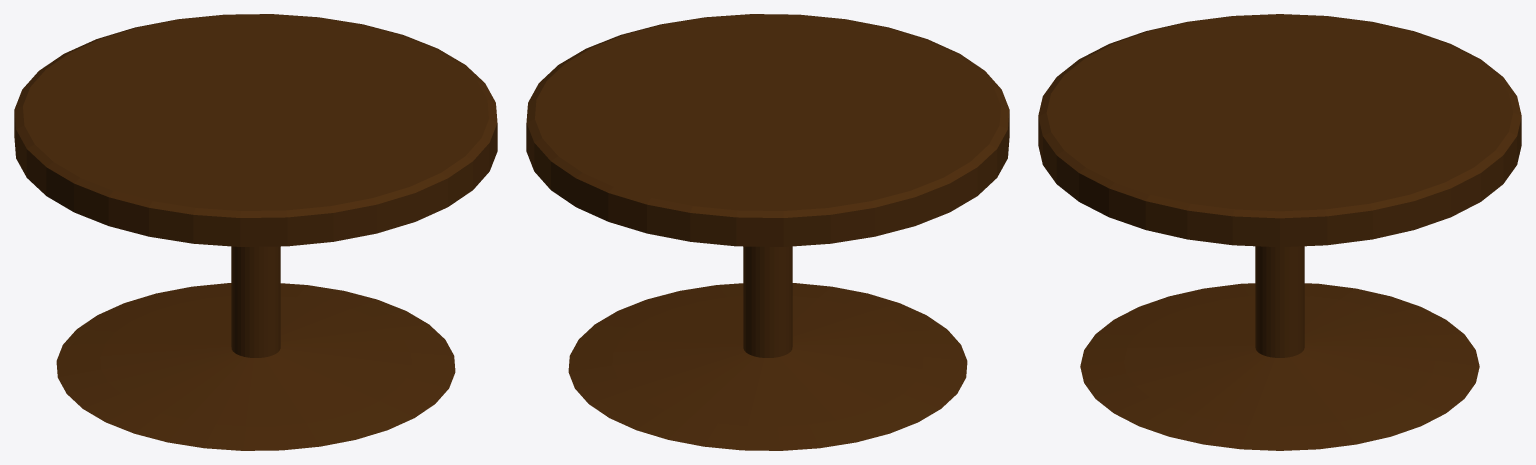
The model's file is Table.fbx.
The picture shows the model from 3 angles, left to right: view 1: azimuth 30°, elevation 25°; view 2: azimuth 150°, elevation 25°; view 3: azimuth 270°, elevation 25°; orthographic projection.
Parts seen in each view (by area): view 1: Table; view 2: Table; view 3: Table.
Boxes of the visible parts, x1,y1,x2,y2 form: Table: (14, 14, 497, 450); Table: (526, 14, 1009, 450); Table: (1038, 14, 1521, 450).
Size of the model in its own units: 698 by 404 by 698.
